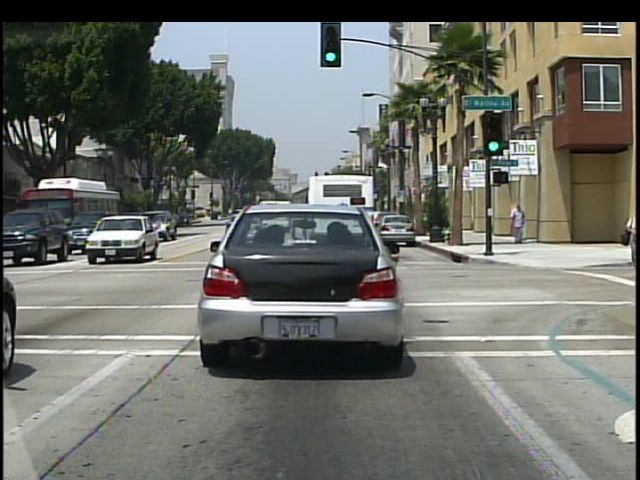person: (621, 211, 639, 268), (510, 201, 528, 244)
